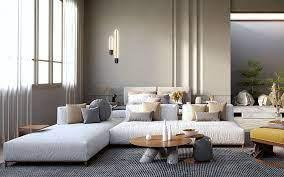light: (113, 29, 119, 64), (107, 31, 113, 58)
sofa: (6, 92, 241, 169)
table: (123, 136, 194, 162), (249, 127, 284, 160), (19, 124, 47, 132)
